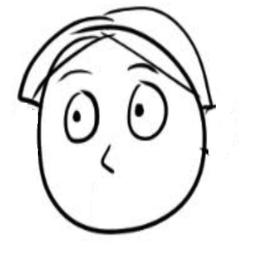eye: (125, 80, 168, 145), (59, 89, 102, 145)
eyebrow: (56, 67, 94, 82), (125, 60, 158, 77)
pointy_nose: (94, 142, 122, 178)
